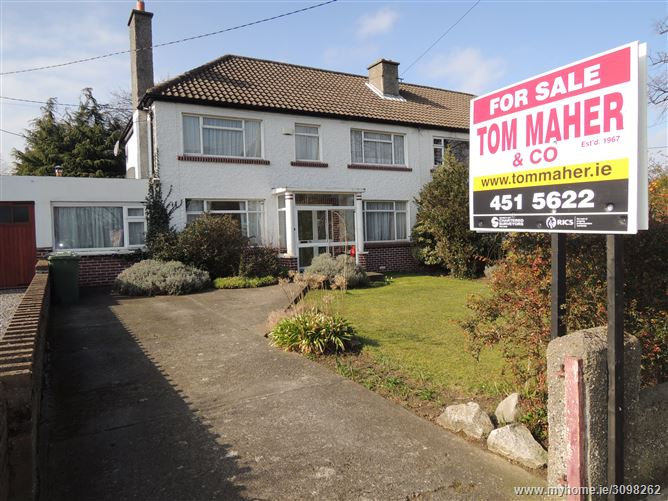property sign: (448, 40, 656, 243)
